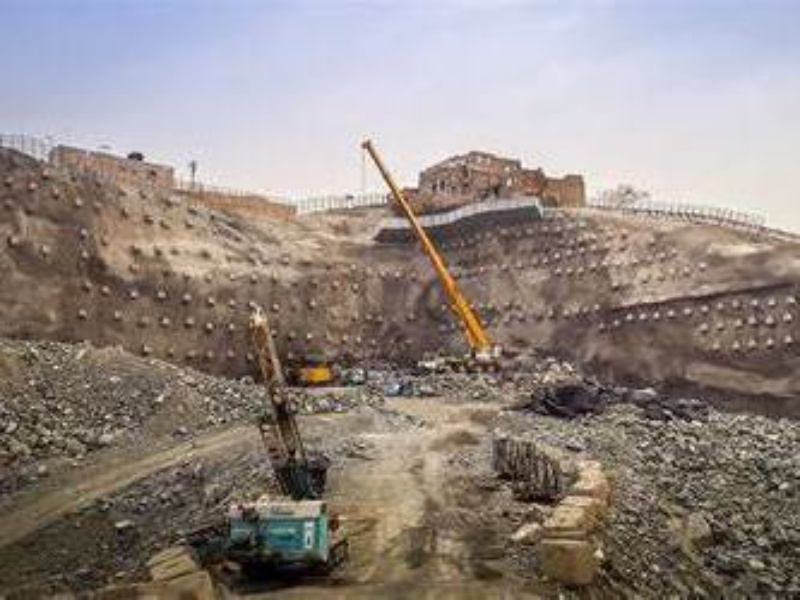crane: (359, 134, 521, 375), (218, 306, 350, 581)
